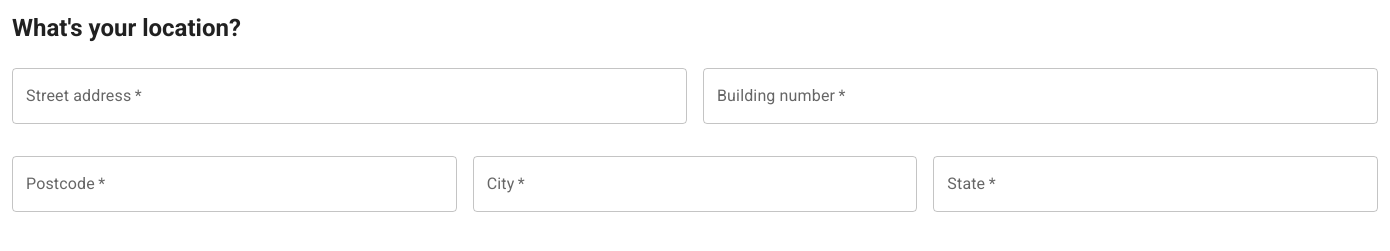
Scenario: LocationStep › should display an error if state is required
Type "1" into the field labelled "State *". click: {"x": 1156, "y": 184}
box: [933,156,1378,212]
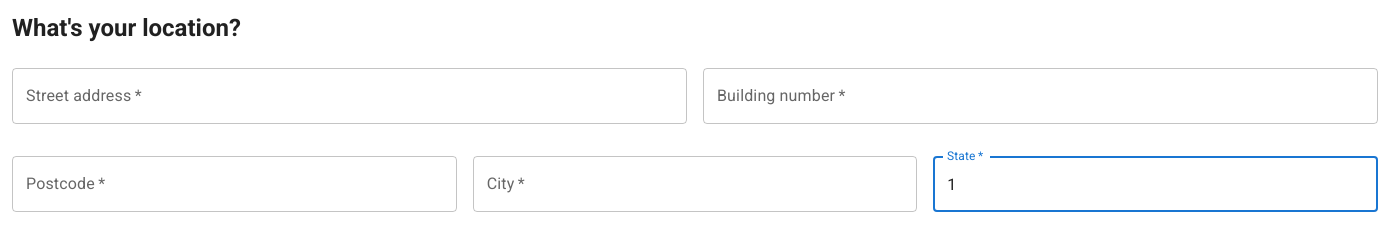
Clear the field labelled "State *". click: {"x": 1156, "y": 184}
box: [933,156,1378,212]
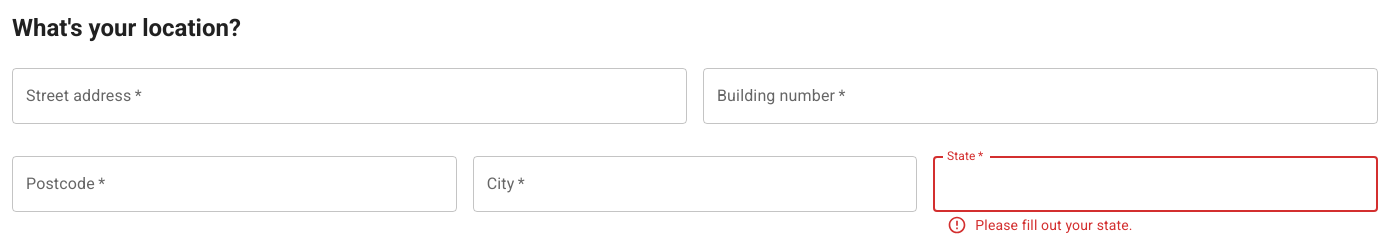
Now the message shows "fill out your state", box [975,217,1133,233]
